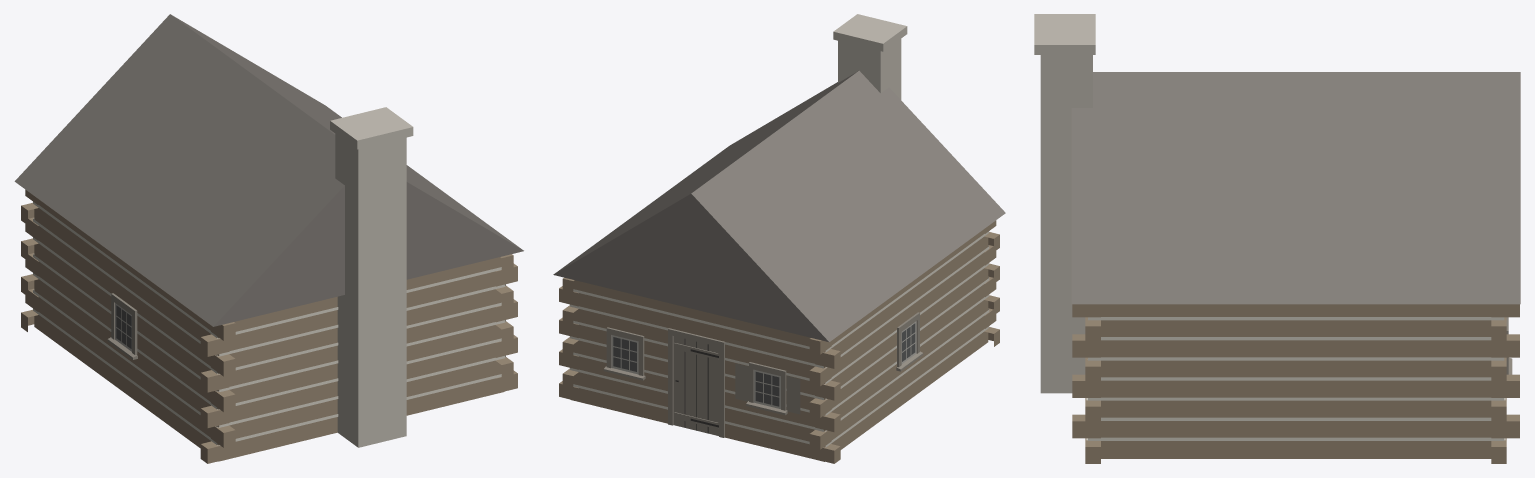
The model's file is recon_1835_blk_lake_franklin_d1_02__inferred_1835.glb.
3 views of the same model, side by side, from view 1: azimuth 30°, elevation 25°; view 2: azimuth 150°, elevation 25°; view 3: azimuth 270°, elevation 25° (orthographic). The views are drawn at different scales.
Parts seen in each view (by area): view 1: recon_1835_blk_lake_franklin_d1_02__inferred_1835; view 2: recon_1835_blk_lake_franklin_d1_02__inferred_1835; view 3: recon_1835_blk_lake_franklin_d1_02__inferred_1835.
Boxes of the visible parts, box(x1,y1,x2,y2) form: recon_1835_blk_lake_franklin_d1_02__inferred_1835: box(14, 14, 523, 463); recon_1835_blk_lake_franklin_d1_02__inferred_1835: box(553, 14, 1005, 463); recon_1835_blk_lake_franklin_d1_02__inferred_1835: box(1034, 14, 1520, 463).
Bounding box in the file's own units: 6.21 × 5.92 × 7.44.
